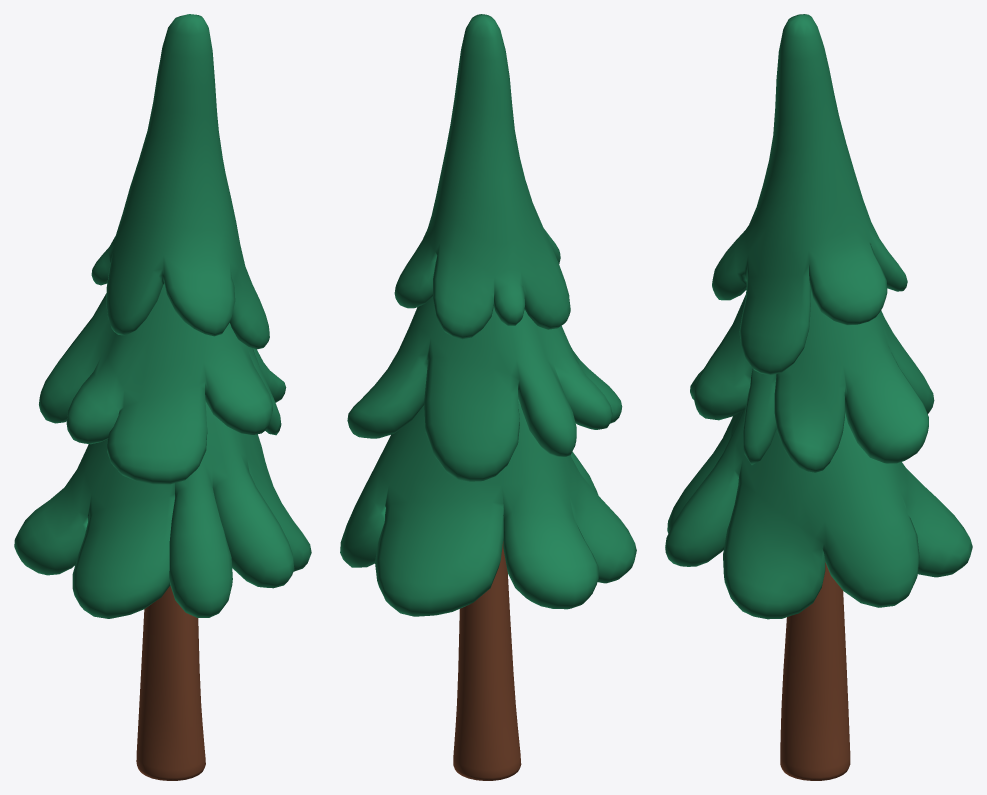
File: Pine_06.fbx
3 renders of one model, left to right at view 1: azimuth 30°, elevation 25°; view 2: azimuth 150°, elevation 25°; view 3: azimuth 270°, elevation 25°, orthographic.
Visible parts, largest first — view 1: Pine_06_LOD0; view 2: Pine_06_LOD0; view 3: Pine_06_LOD0.
Boxes of the visible parts, x1,y1,x2,y2 form: Pine_06_LOD0: [14, 14, 311, 780]; Pine_06_LOD0: [340, 14, 636, 780]; Pine_06_LOD0: [665, 14, 972, 780].
Size of what is drawn, in the model's own units: 451 by 1370 by 504.
